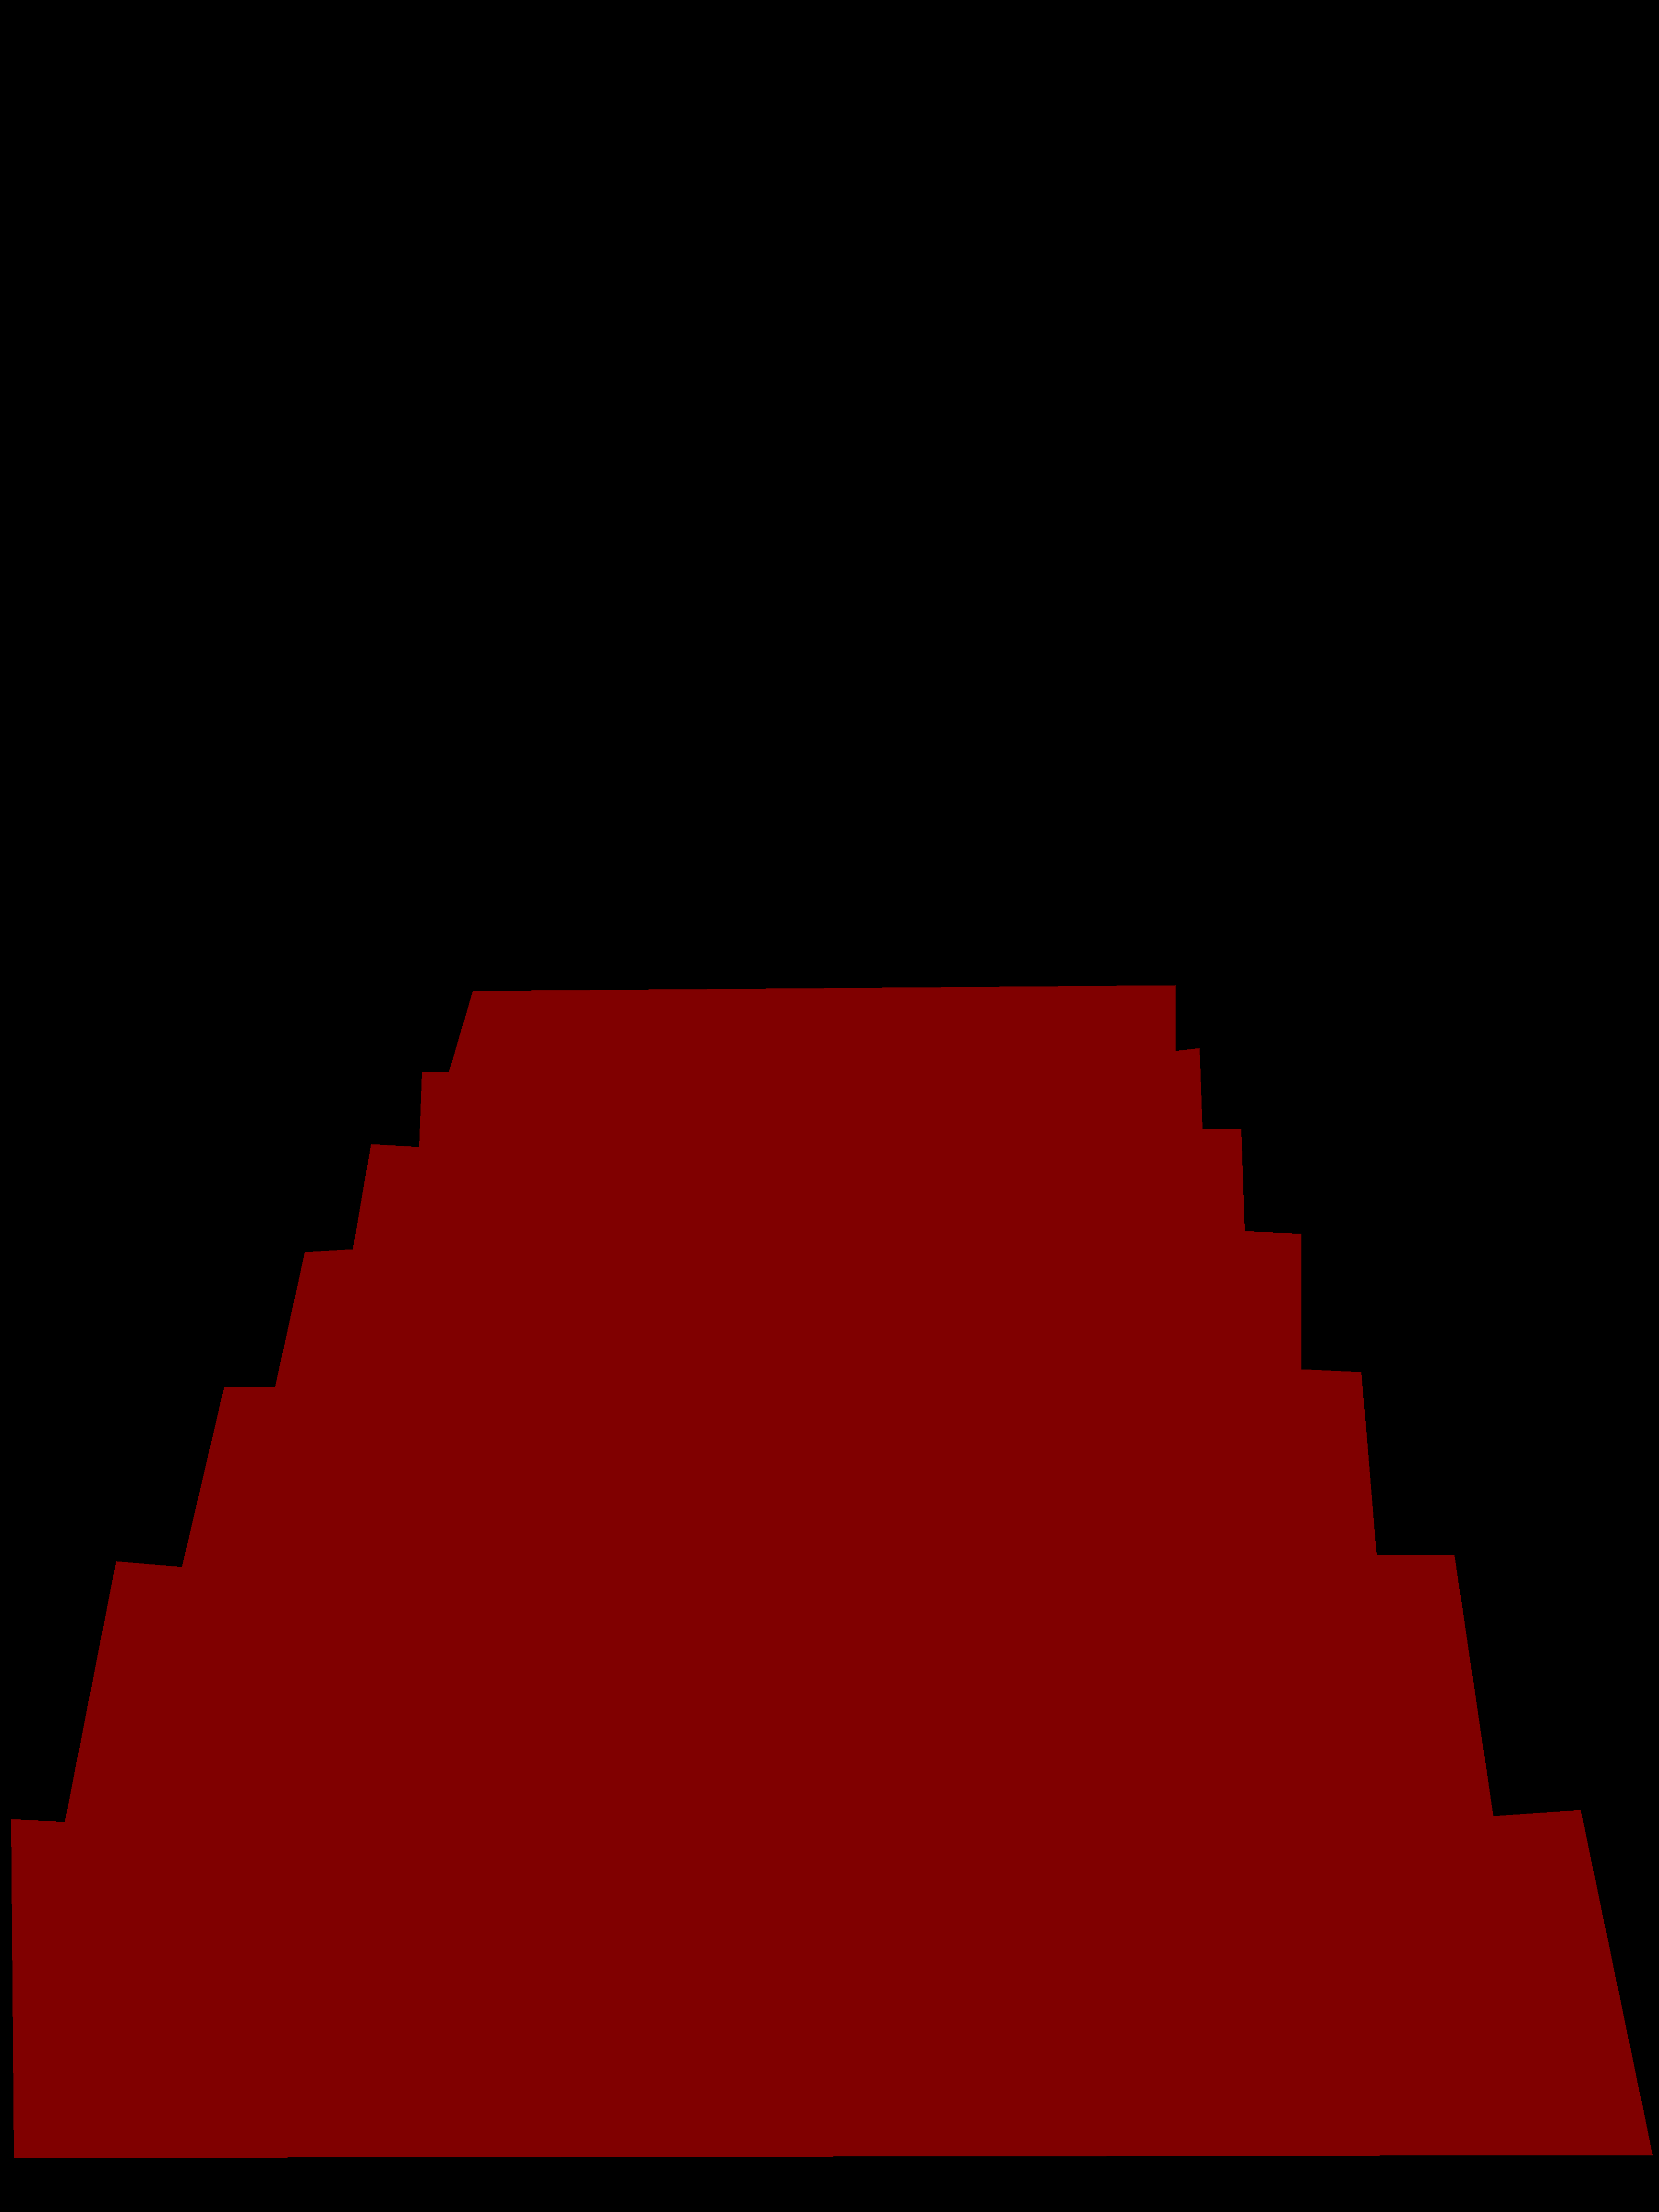stair: (10, 986, 1652, 2158)
